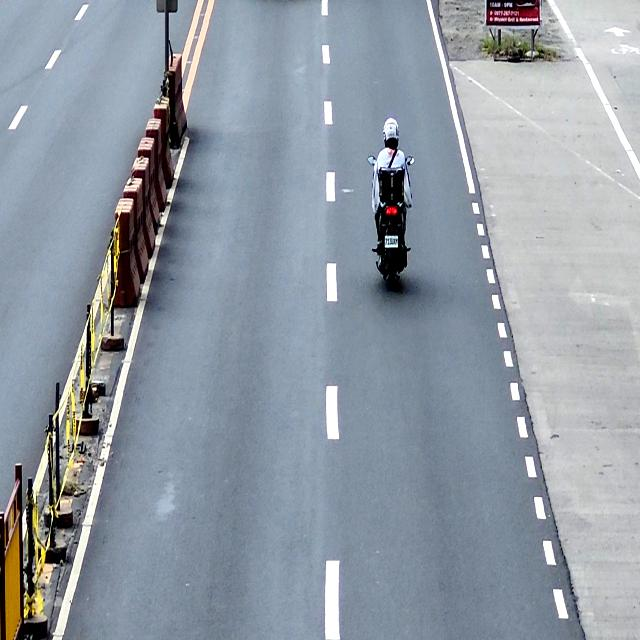License-Plate: (384, 232, 399, 250)
Motorcycle: (367, 153, 415, 291)
